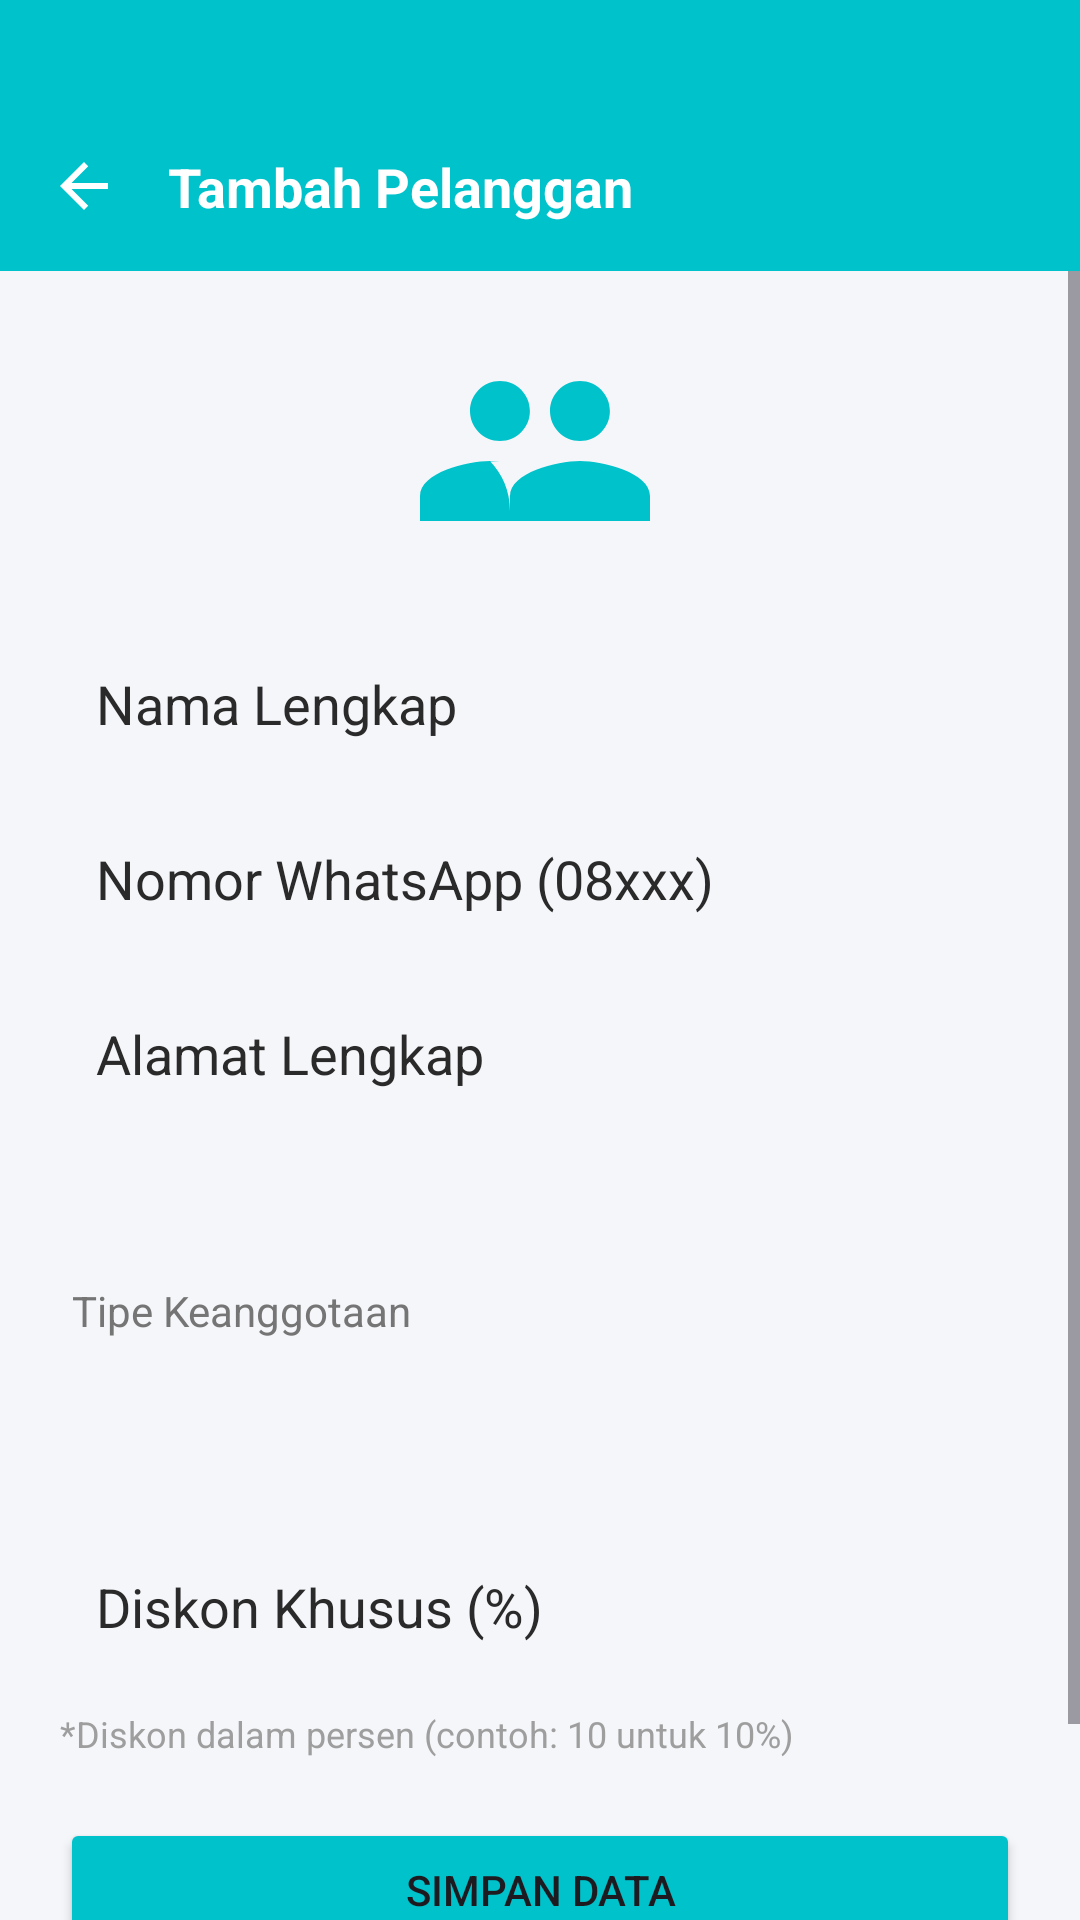

Icon click points for this 1080px x 1920px phone screenshot, format point (x, y):
arrow back: point (84, 186)
